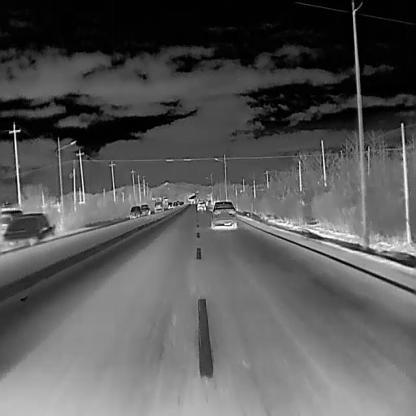car: (0, 212, 55, 252), (210, 200, 237, 229), (1, 209, 23, 236), (129, 205, 141, 218), (139, 203, 150, 215), (196, 201, 206, 211), (153, 201, 162, 212), (167, 201, 173, 209), (173, 202, 178, 208), (179, 200, 184, 205), (176, 200, 179, 205)
